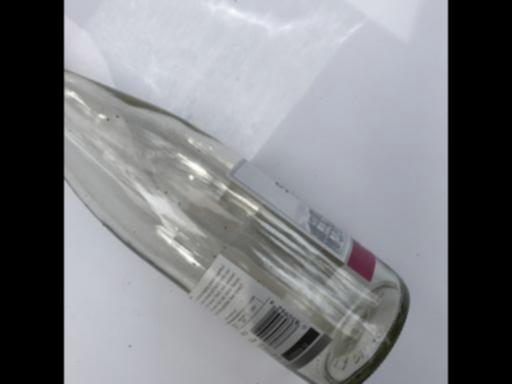alcohol: (65, 59, 412, 384)
glass: (65, 59, 412, 384)
sodocalcique: (65, 59, 412, 384)
